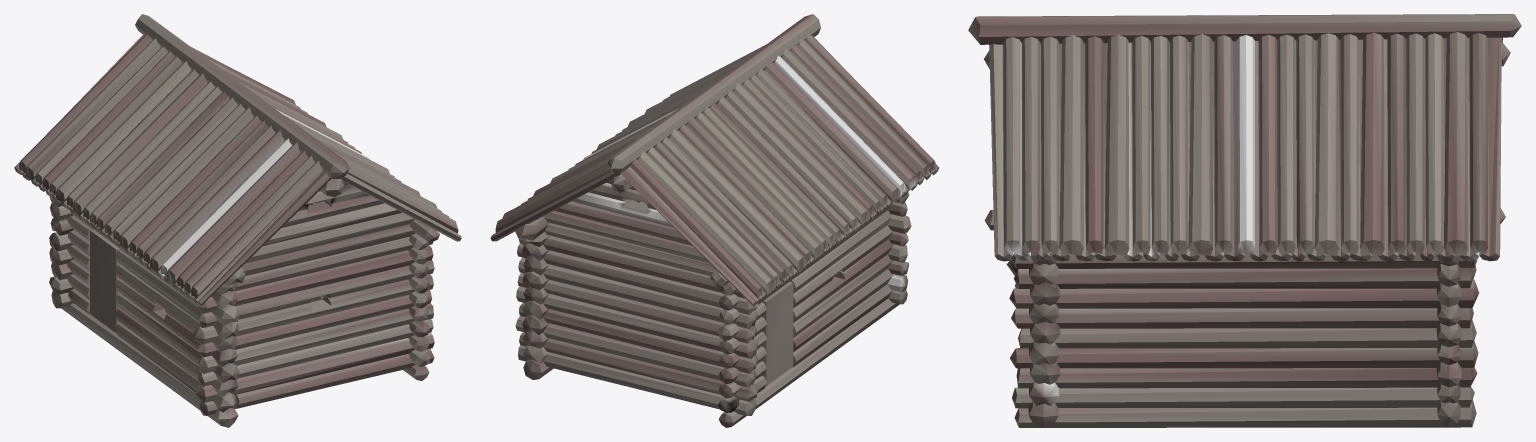
The model's file is cabin.gltf.
3 renders of one model, left to right at view 1: azimuth 30°, elevation 25°; view 2: azimuth 150°, elevation 25°; view 3: azimuth 270°, elevation 25°, orthographic. The views are drawn at different scales.
Parts seen in each view (by area): view 1: cabin; view 2: cabin; view 3: cabin.
Boxes of the visible parts, <box> form: cabin: <box>14,14,461,427</box>; cabin: <box>490,14,939,427</box>; cabin: <box>968,14,1521,427</box>.
Bounding box in the file's own units: 5.51 × 5.09 × 7.32.
